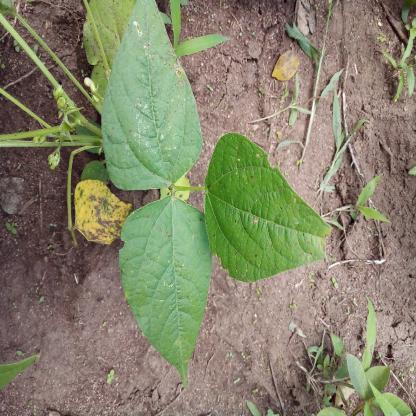Beans_Angular_LeafSpot: (200, 140, 344, 272), (104, 3, 200, 188), (123, 198, 218, 381), (68, 184, 138, 241)
